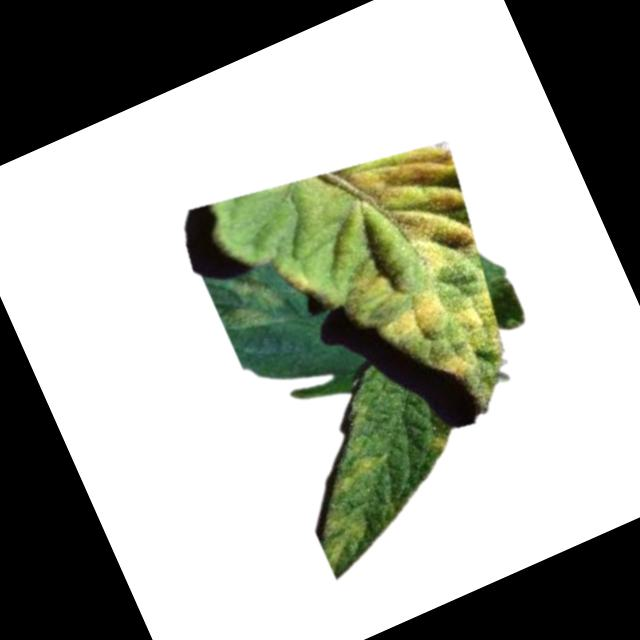Leaf_Mold: (252, 122, 539, 430), (325, 447, 393, 499)
